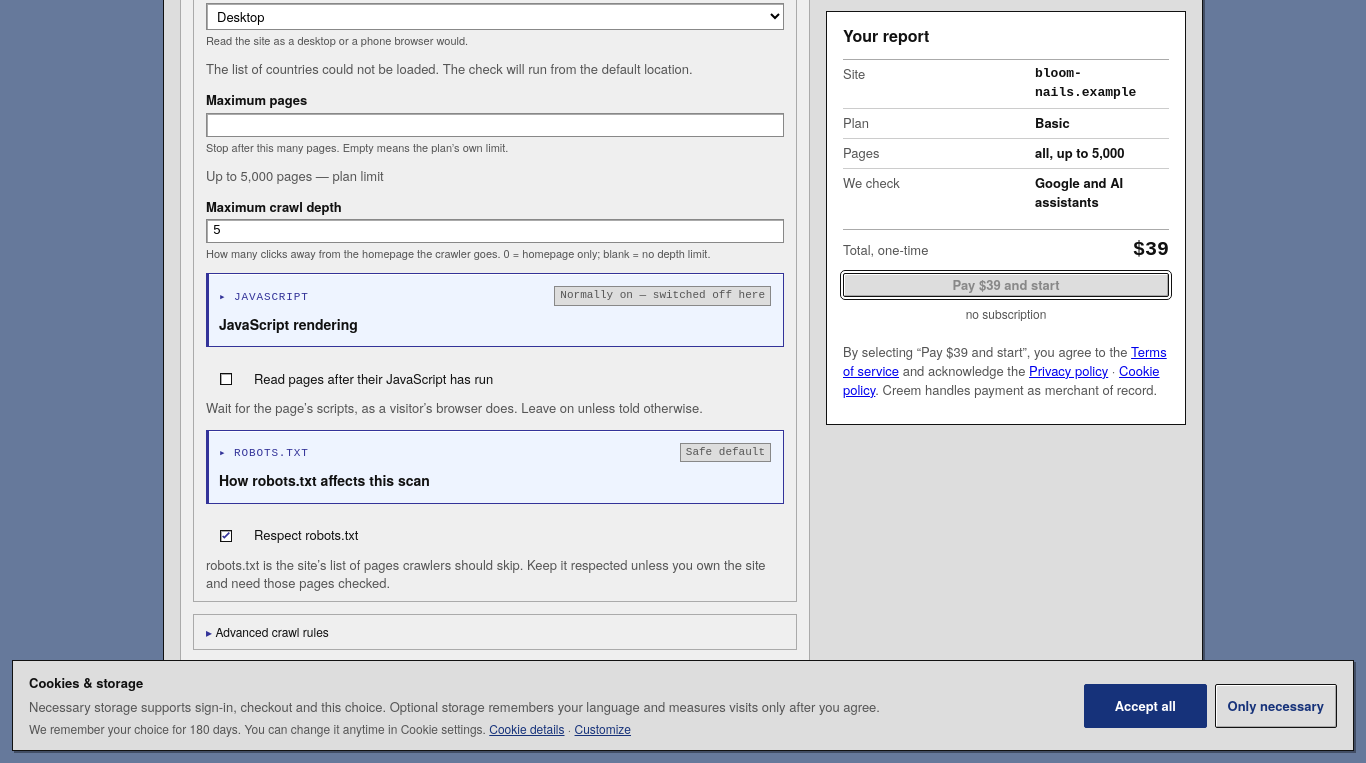
Test: the badges beside the expert settings › follows the box as the owner ticks it
(page scrolled)
Click the checkbox labelled "Read pages after their JavaScript has run": click(357, 378) [220,369,493,388]
(page scrolled)
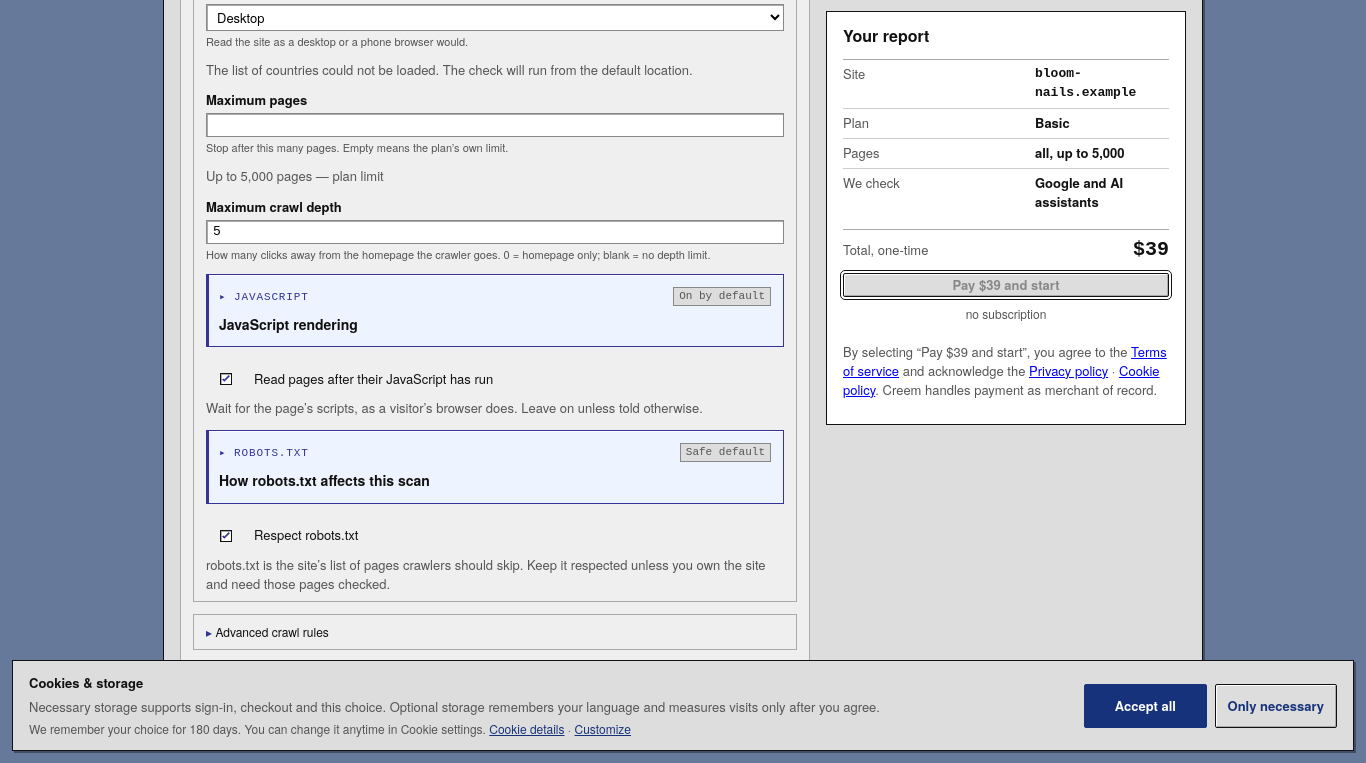
Expected: the text "On by default" is shown, [673,287,771,306]
Click the checkbox labelled "Respect robots.txt": click(289, 535) [220,525,358,544]
(page scrolled)
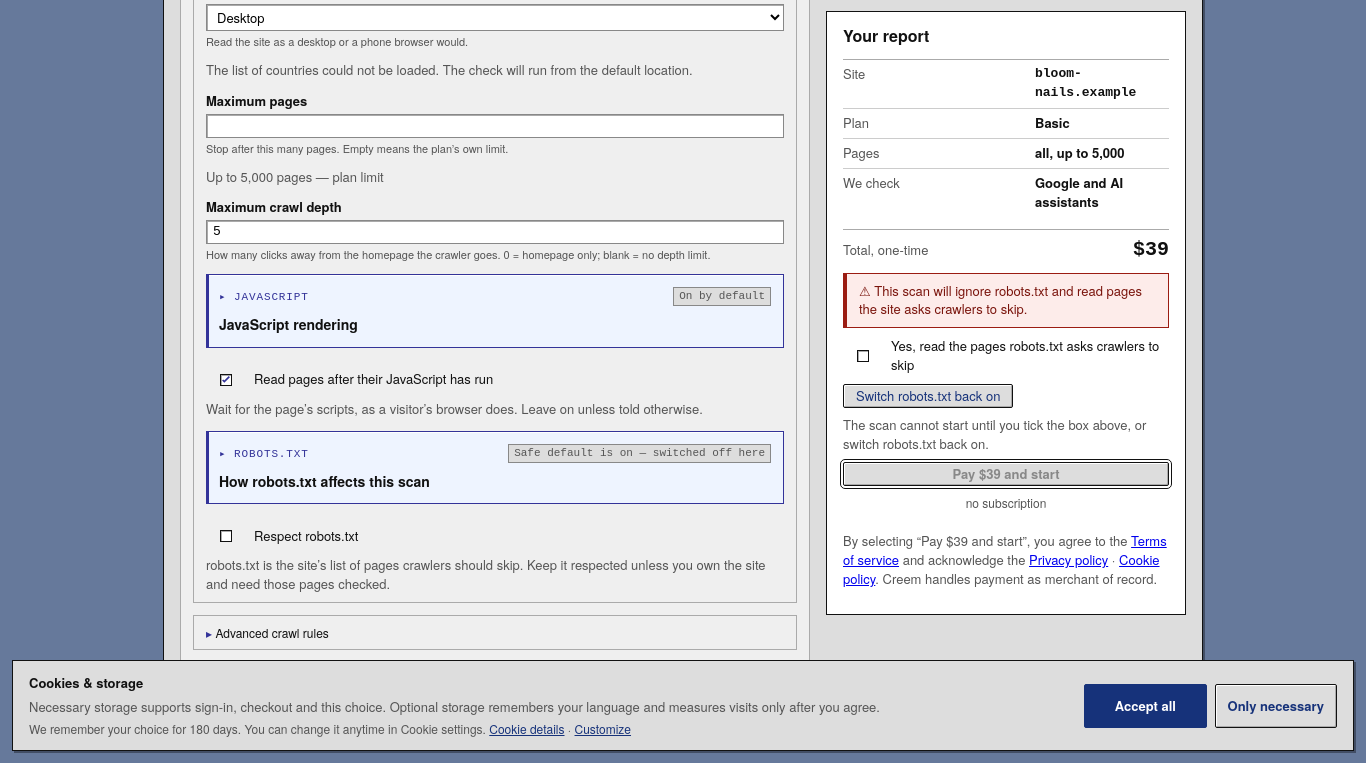
Expected: the text "Safe default is on — switched off here" is shown, [508,444,771,463]
